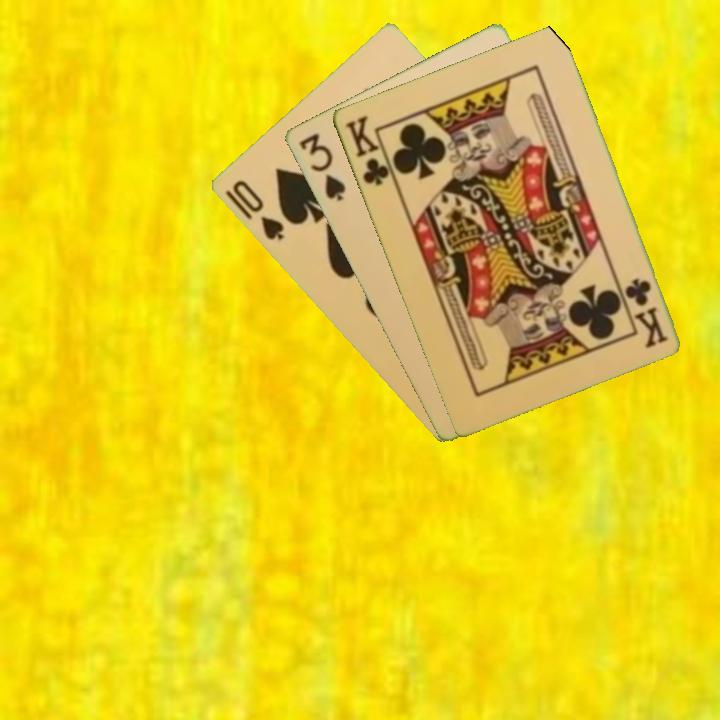10s: (228, 176, 286, 243)
3s: (295, 129, 349, 204)
Kc: (341, 111, 397, 189), (622, 274, 671, 350)
